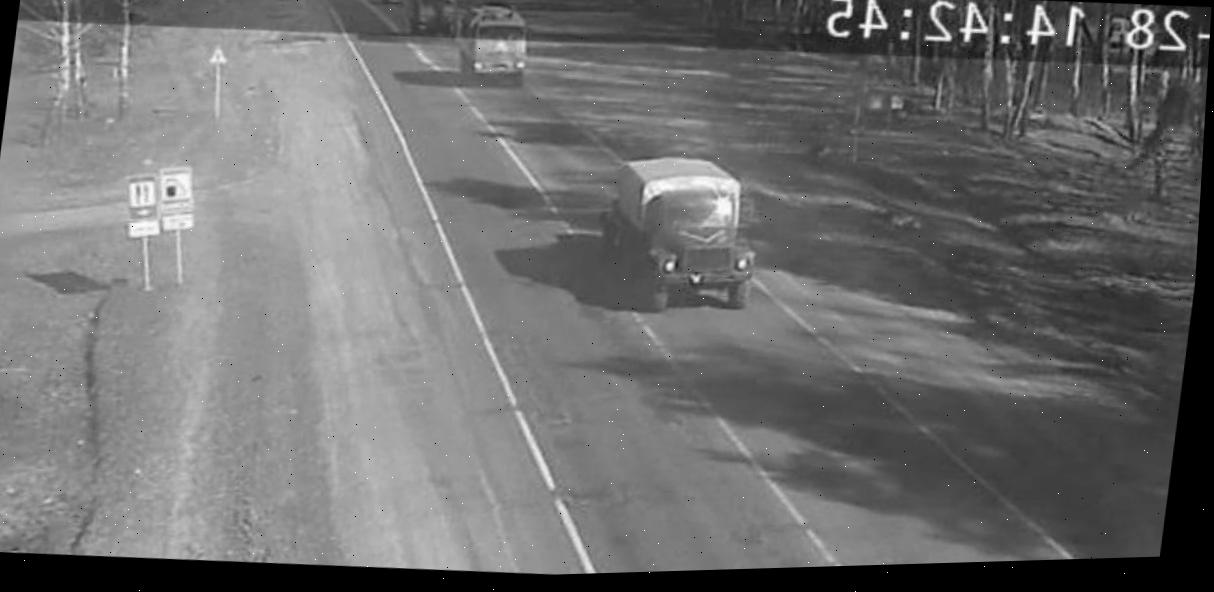truck: (592, 146, 785, 327), (451, 0, 535, 90), (406, 0, 458, 39)
